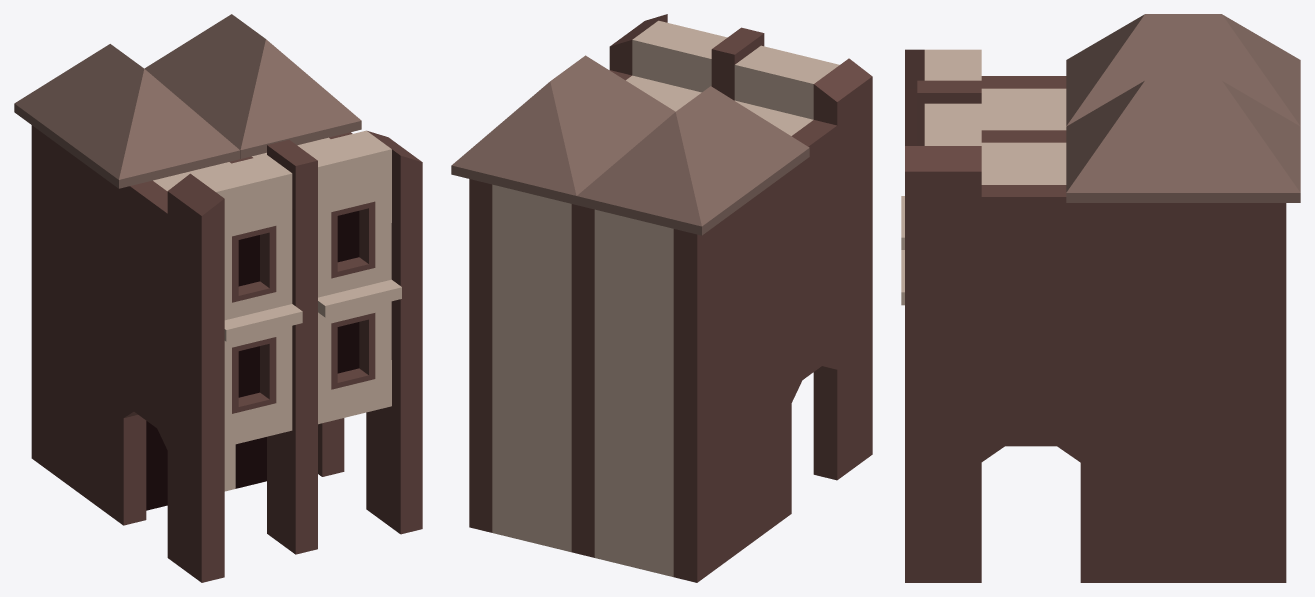
Rendered from building_04.fbx.
The picture shows the model from 3 angles, left to right: view 1: azimuth 30°, elevation 25°; view 2: azimuth 150°, elevation 25°; view 3: azimuth 270°, elevation 25°; orthographic projection. The views are drawn at different scales.
Parts seen in each view (by area): view 1: Cube; view 2: Cube; view 3: Cube.
Part boxes in pixels (left/top/right/bottom): Cube: left=14, top=14, right=422, bottom=582; Cube: left=451, top=14, right=872, bottom=582; Cube: left=901, top=14, right=1300, bottom=582.
Bounding box in the file's own units: 288 × 479 × 365.
